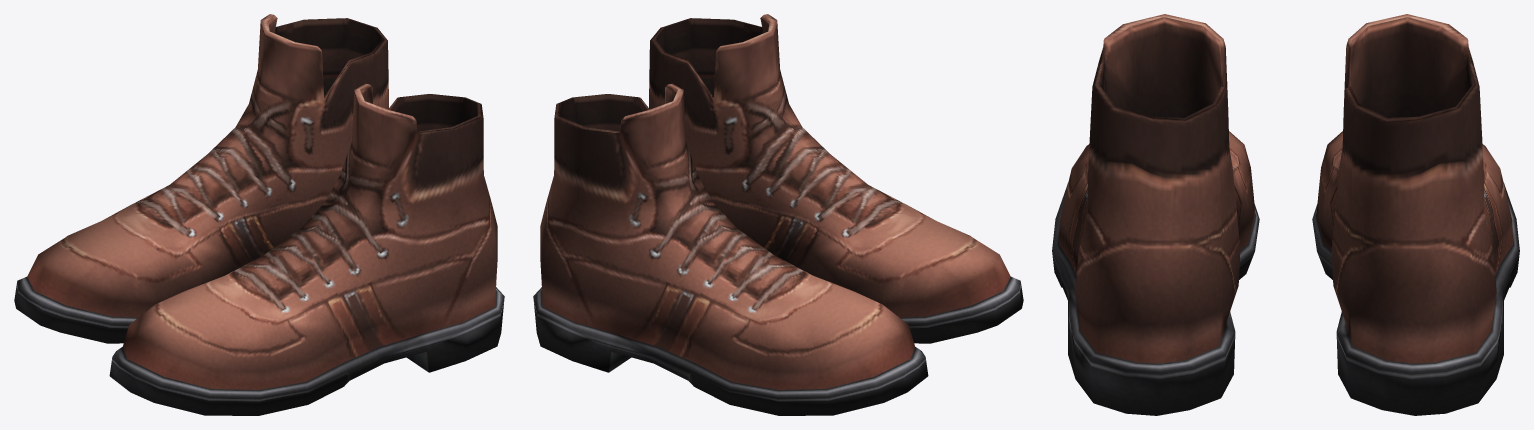
The model's file is PiErSenGongYu_01_junxie_01.FBX.
3 views of the same model, side by side, from view 1: azimuth 30°, elevation 25°; view 2: azimuth 150°, elevation 25°; view 3: azimuth 270°, elevation 25° (orthographic). The views are drawn at different scales.
Parts seen in each view (by area): view 1: PiErSenDeGongYu_junxie_01; view 2: PiErSenDeGongYu_junxie_01; view 3: PiErSenDeGongYu_junxie_01.
Part boxes in pixels (x1,y1,x2,y2): PiErSenDeGongYu_junxie_01: [14, 14, 504, 415]; PiErSenDeGongYu_junxie_01: [533, 14, 1023, 415]; PiErSenDeGongYu_junxie_01: [1052, 14, 1519, 415].
Bounding box in the file's own units: 93.61 × 59.99 × 79.27.
